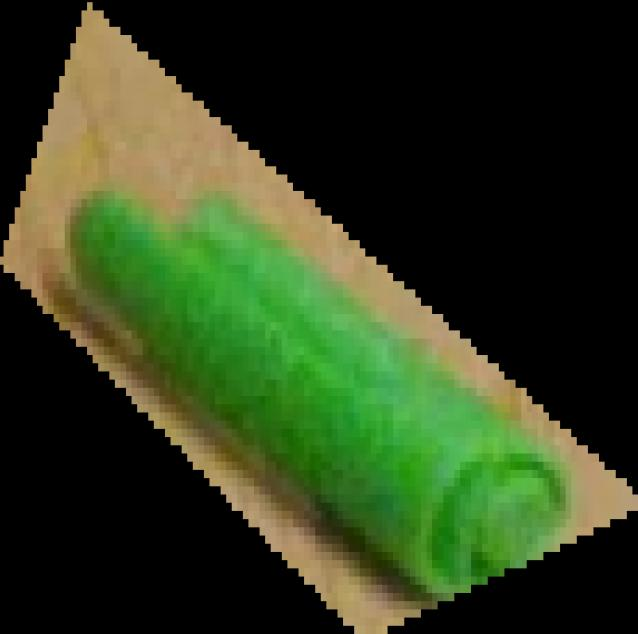green: (0, 1, 638, 634)
